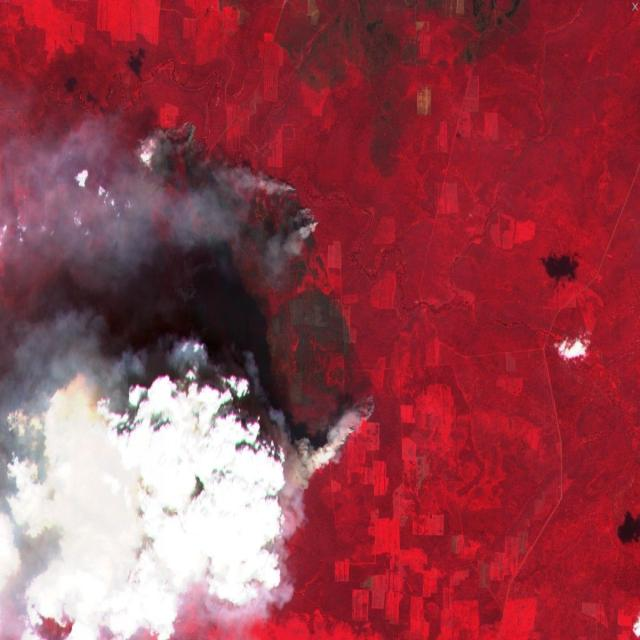fire: (139, 113, 384, 484)
